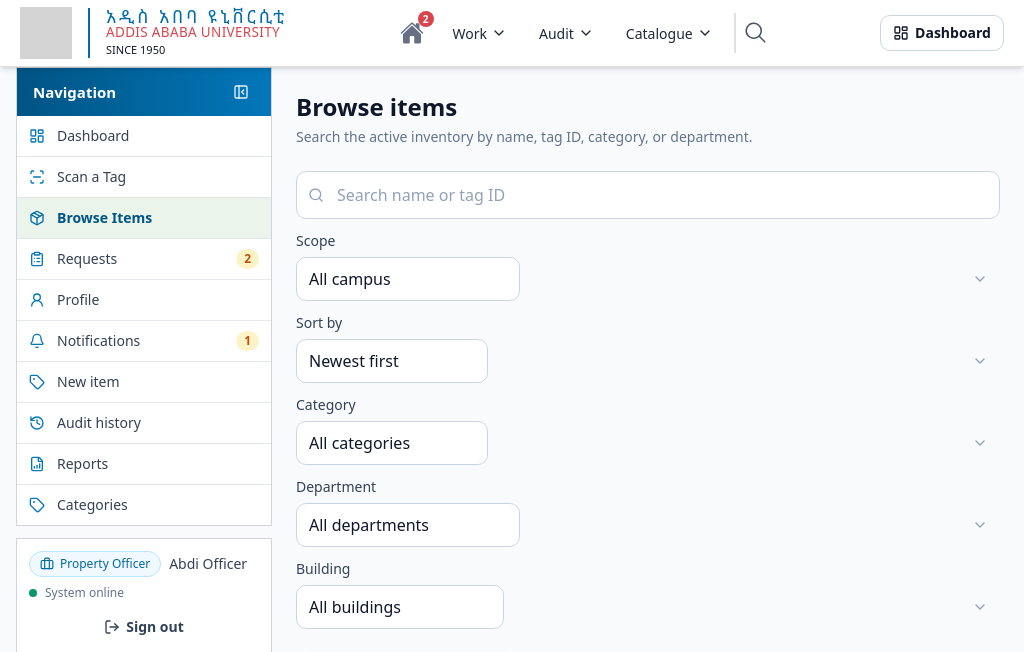
Test: the register is behind sign-in › shows the filtered empty state, distinct from 'no items yet', when nothing matches
The image size is (1024, 652).
Type "zz-no-such-thing" into the search field at (648, 195), box 296,171 -> 1000,219
(page scrolled)
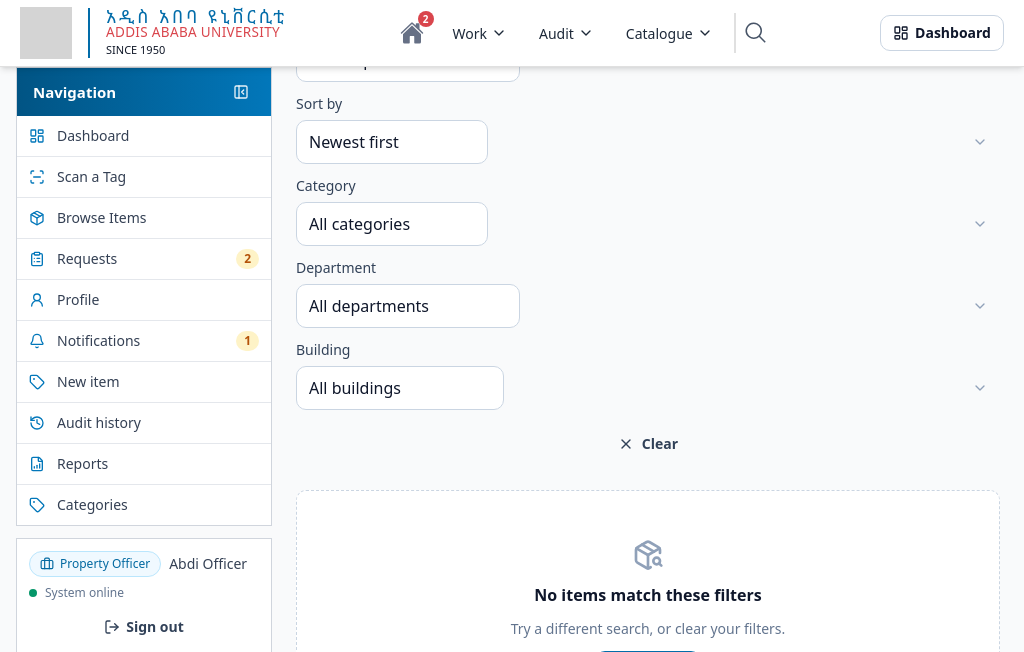
Expected: the heading "No items match these filters" is shown, 534,583 -> 762,607
